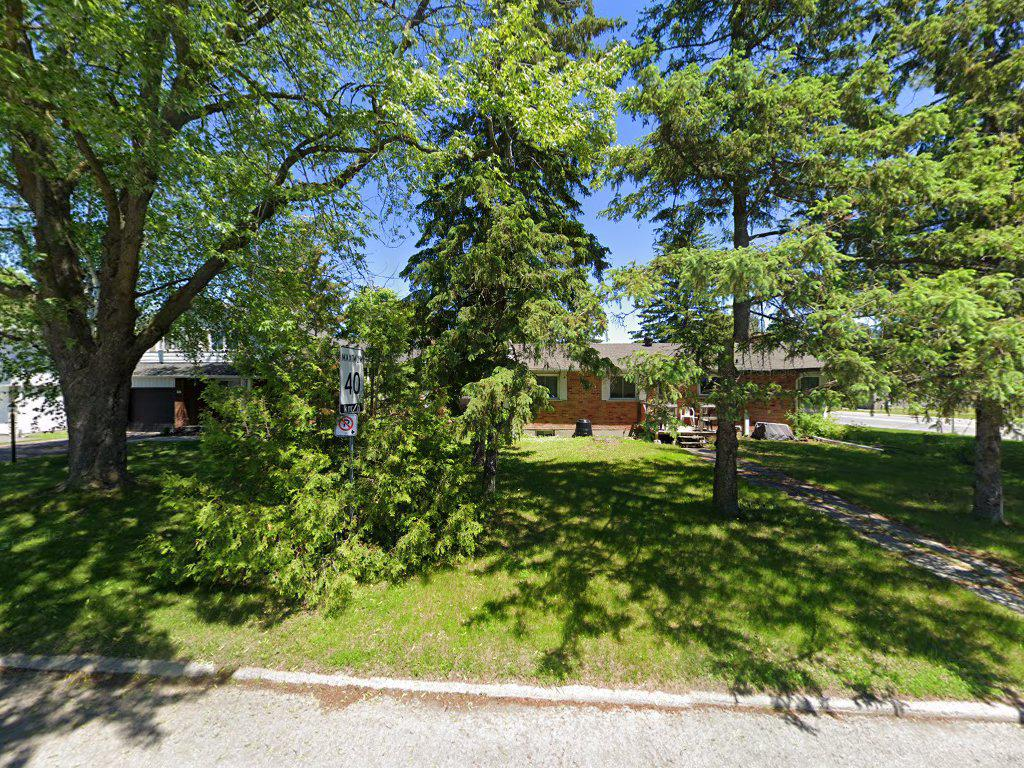trunk: (37, 234, 154, 494), (704, 381, 752, 545), (963, 390, 1013, 537)
